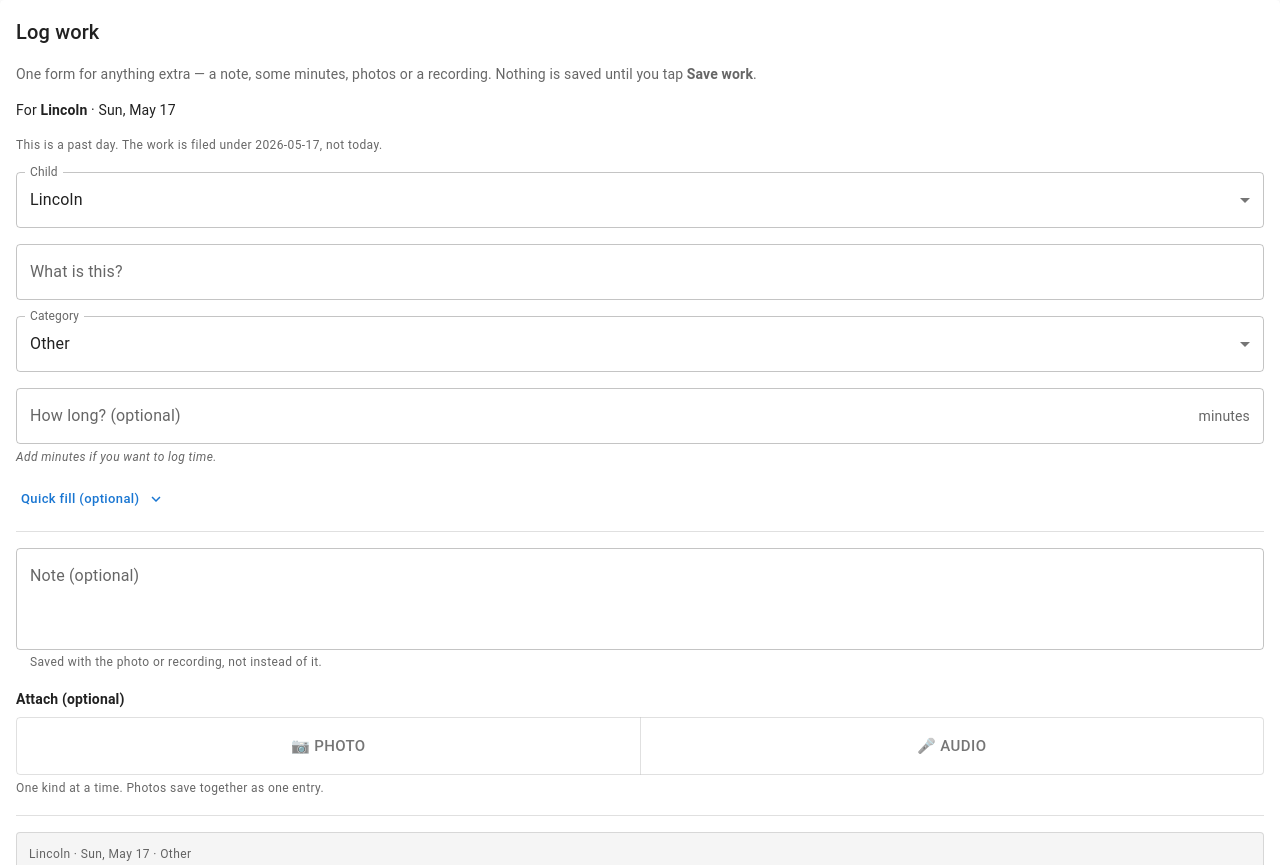
it: UnifiedCaptureCard (parent variant) › tapping a quick fill pre-fills activity name, category, and duration
The width and height of the screenshot is (1280, 865).
Click the button "Quick fill (optional)": (92, 499) 16,484 -> 168,515
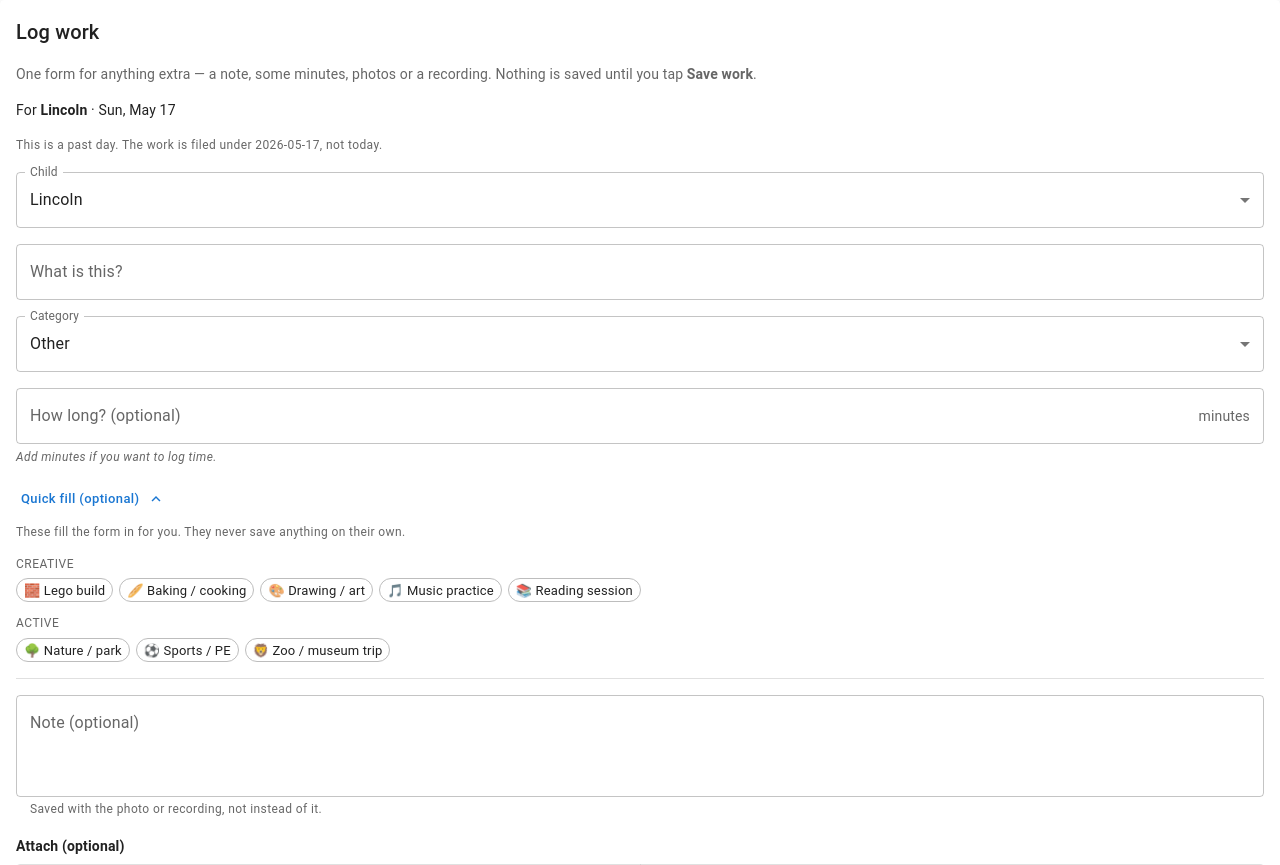
Click the button "🧱 Lego build": (65, 590) 16,578 -> 113,602
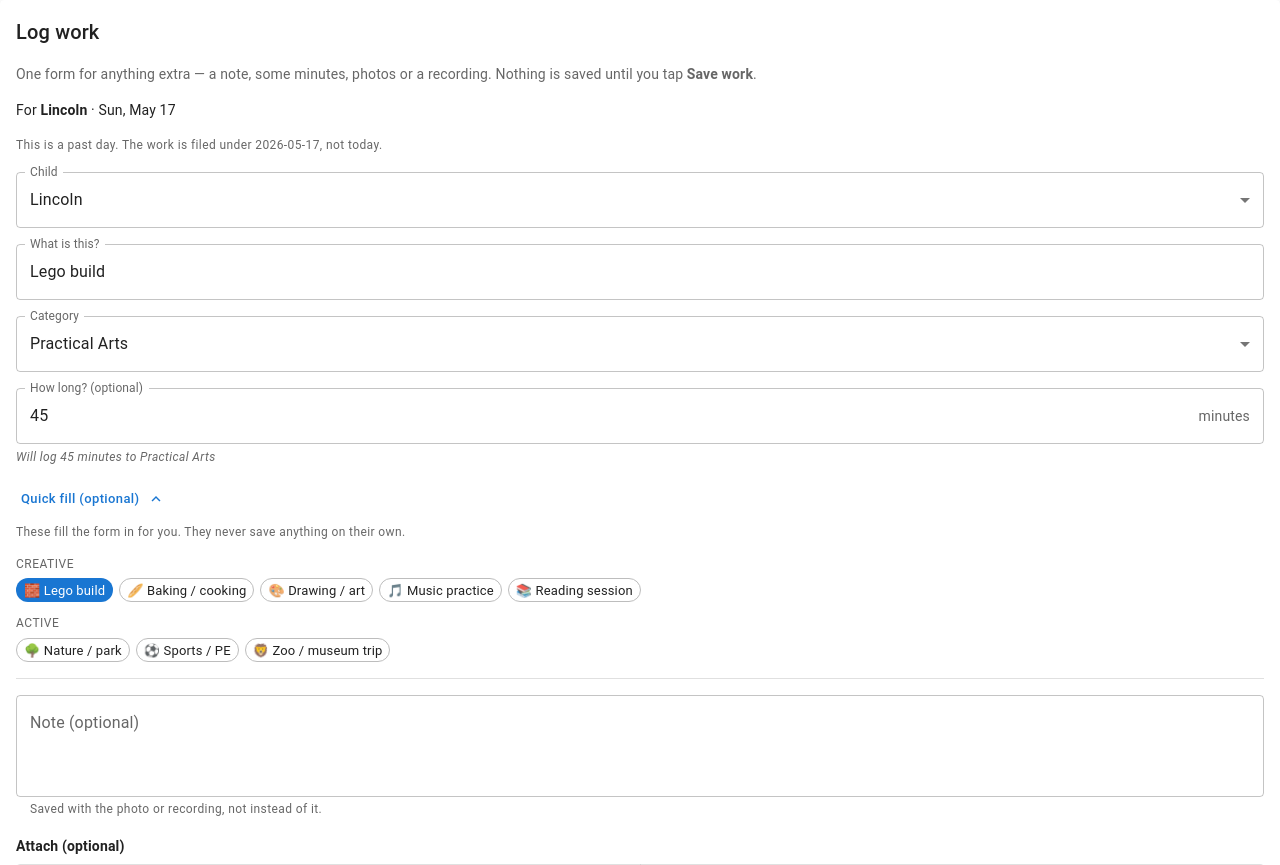
Check: the field labelled "What is this?" holds "Lego build", box 16,244 -> 1264,300
Check: the number field named "duration in minutes" holds "45", box 16,388 -> 1191,444
Check: the text "Will log 45 minutes to Practical Arts" is shown, box 16,450 -> 216,464
